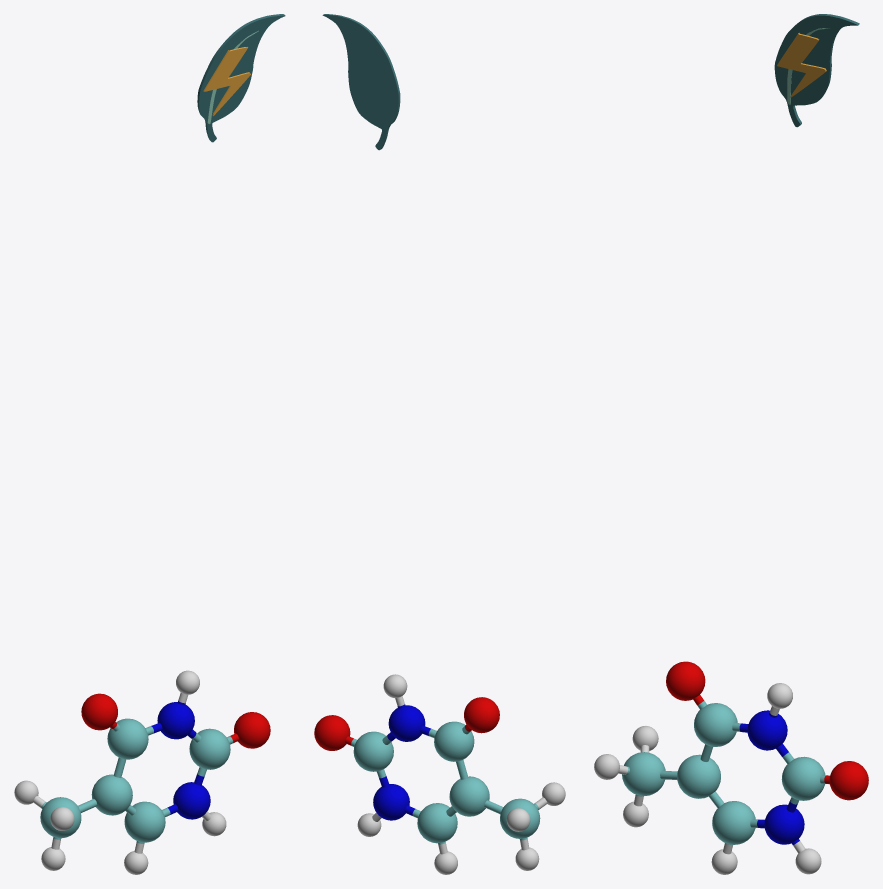
File: timina.glb
3 views of the same model, side by side, from view 1: azimuth 30°, elevation 25°; view 2: azimuth 150°, elevation 25°; view 3: azimuth 330°, elevation 25° (orthographic). The views are drawn at different scales.
Visible parts, largest first — view 1: thymiine, path182, path186; view 2: thymiine, path182; view 3: thymiine, path182, path186.
Boxes of the visible parts, x1,y1,x2,y2 form: thymiine: (14,670,270,874); path182: (197,14,285,142); path186: (203,47,250,115); thymiine: (314,674,565,874); path182: (322,14,400,150); thymiine: (594,661,868,874); path182: (774,14,859,127); path186: (777,33,826,97).
Size of the model in its own units: 1.73 by 5.77 by 0.6005.
